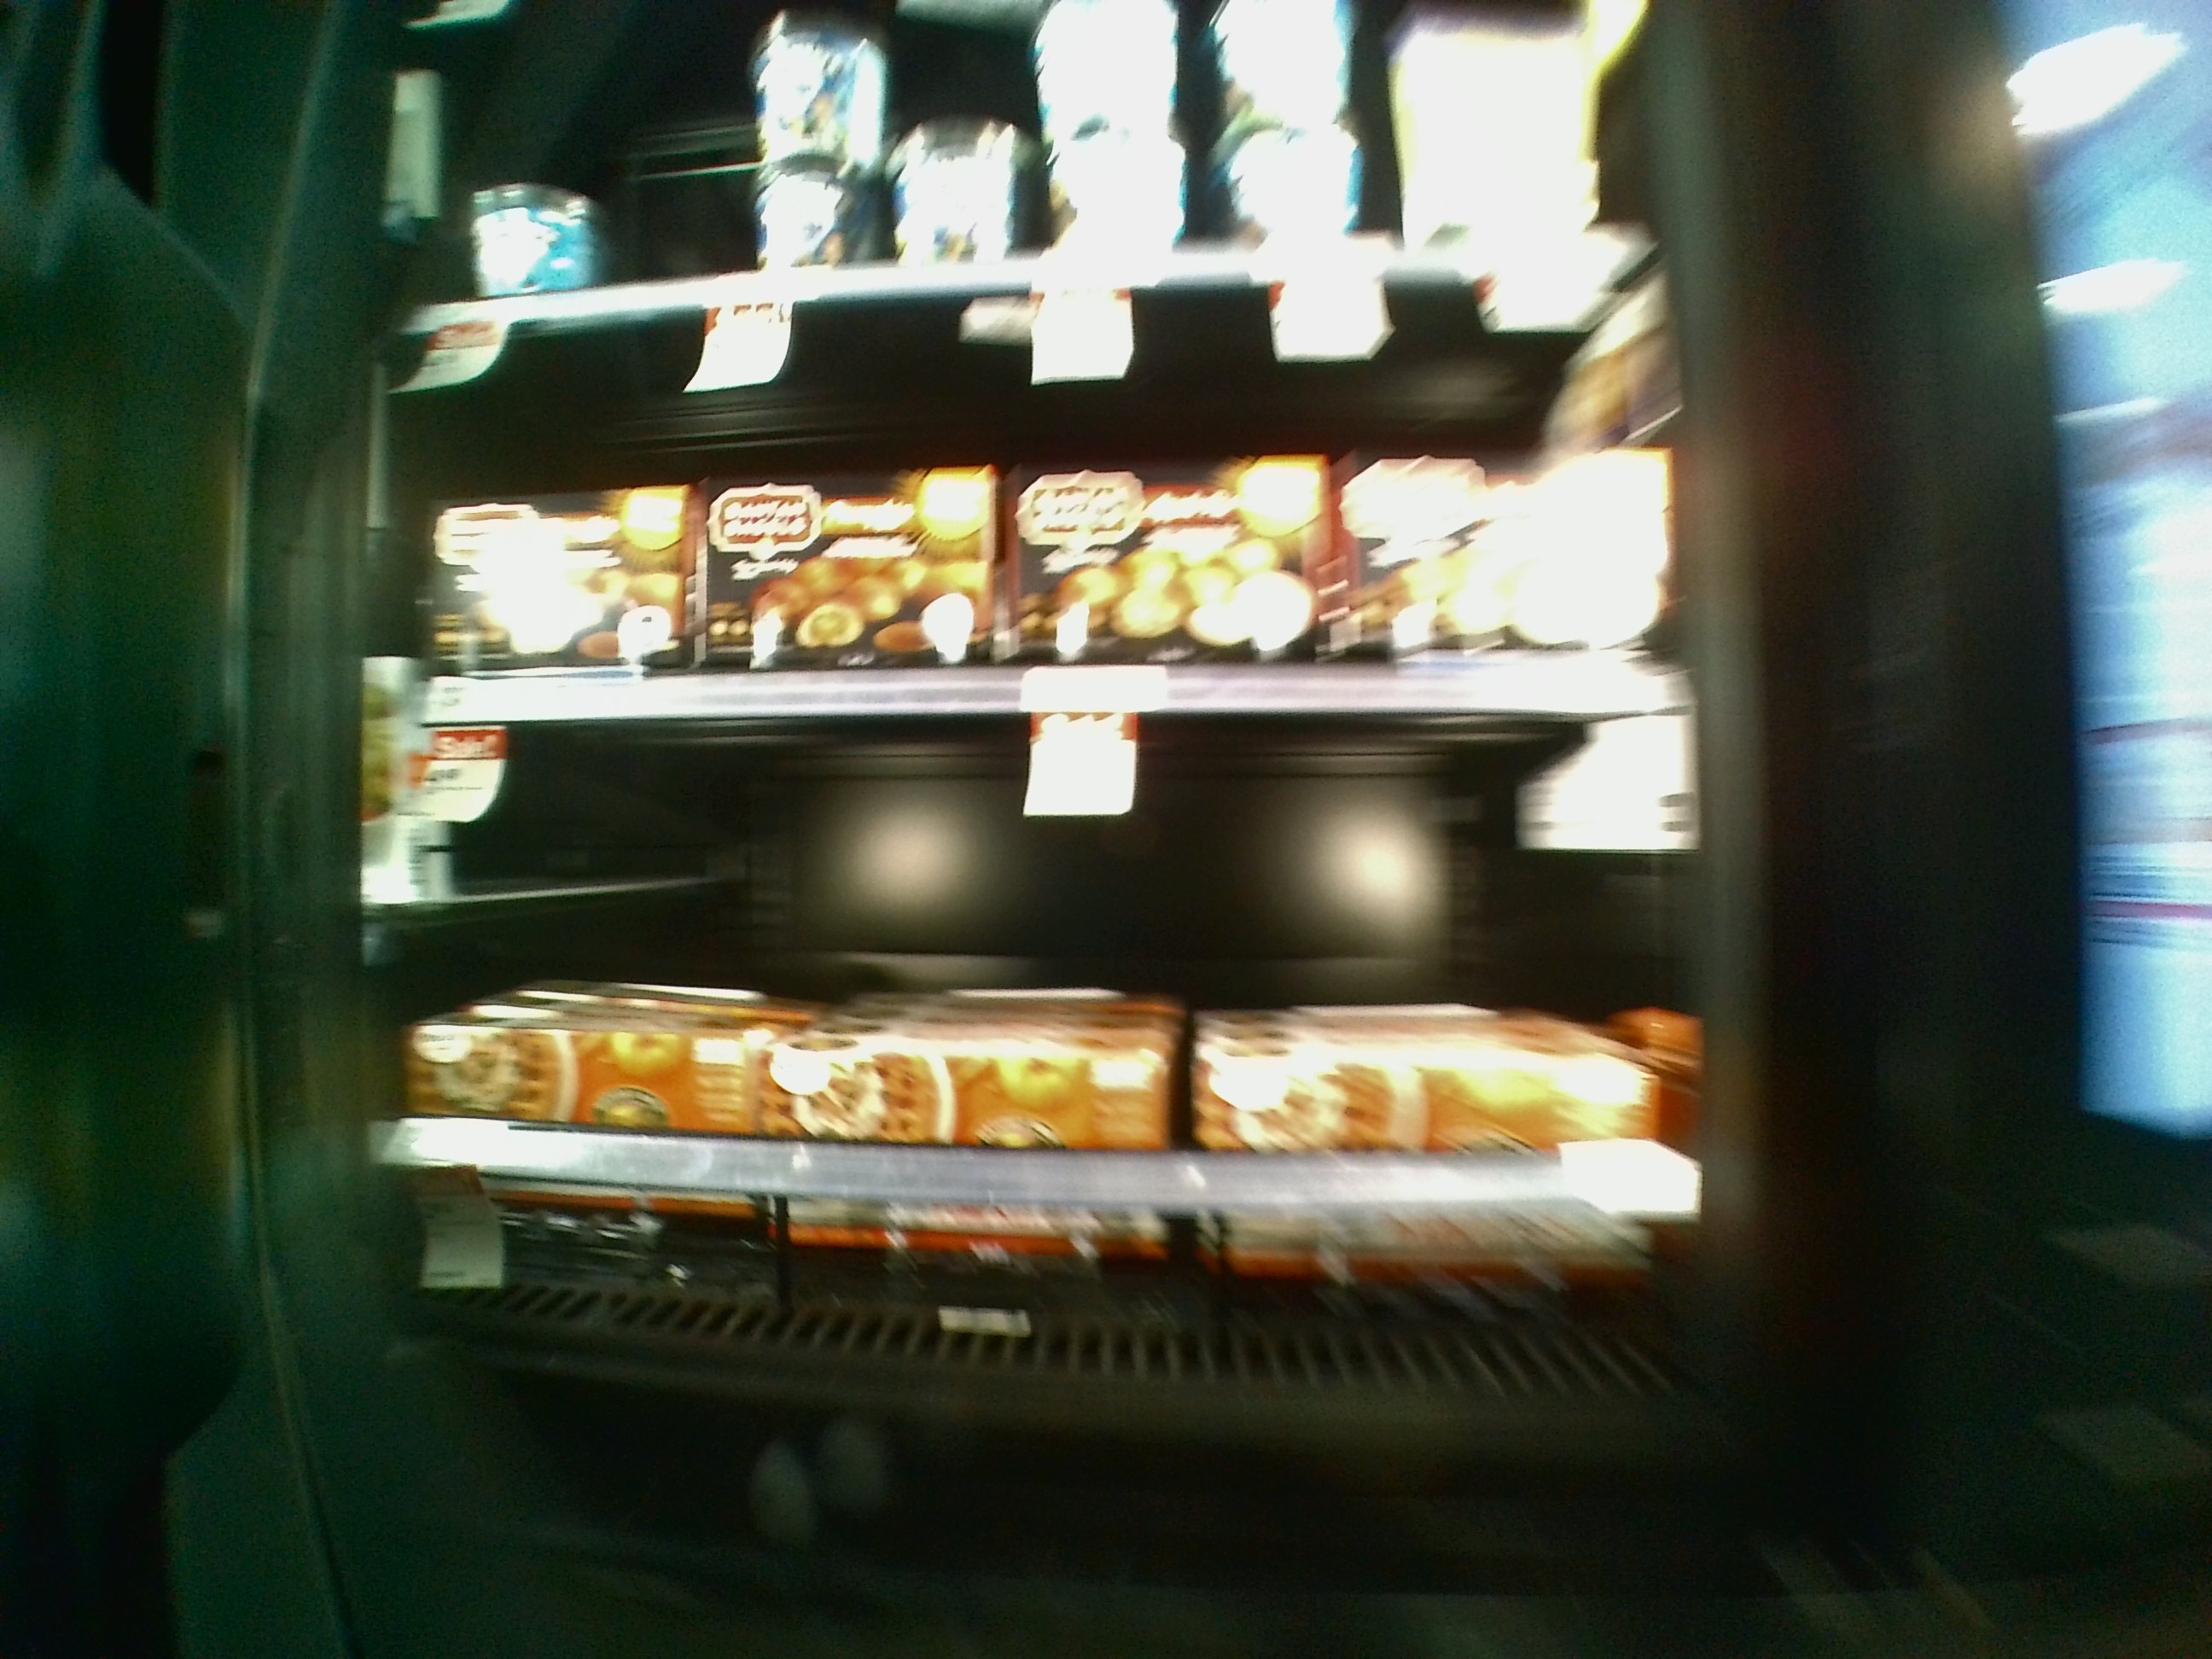shelf: (402, 716, 1689, 1229), (388, 324, 1702, 706)
